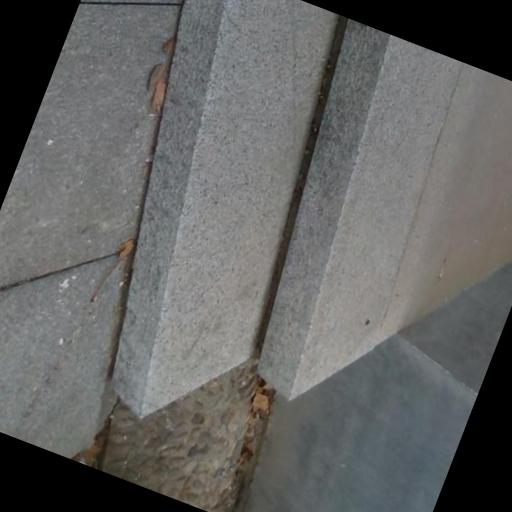stairs: (113, 0, 511, 414)
